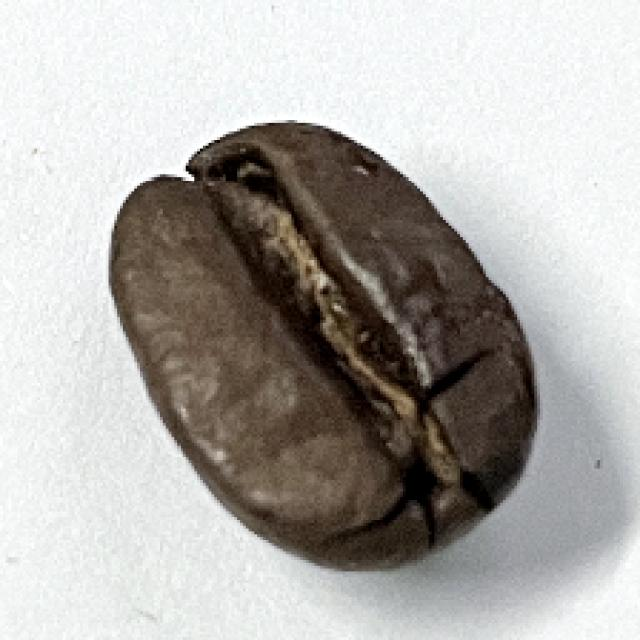bean: (107, 117, 539, 570)
